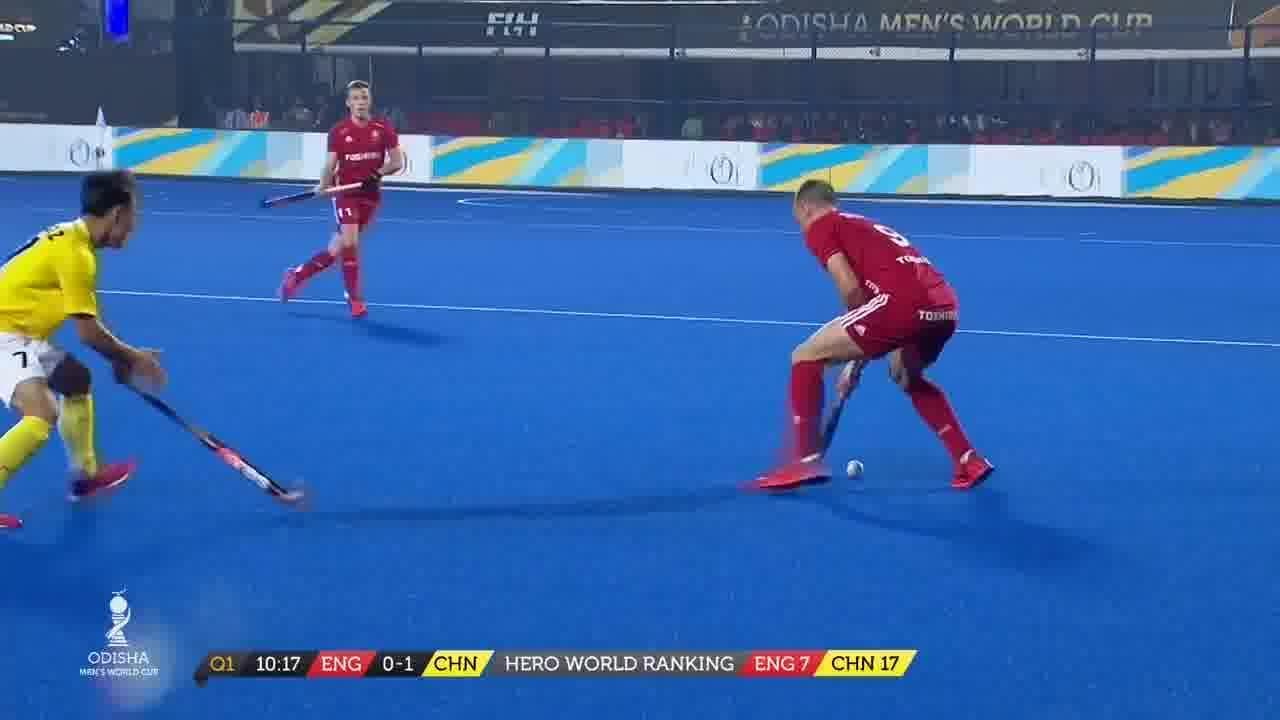ball: (840, 444, 872, 488)
